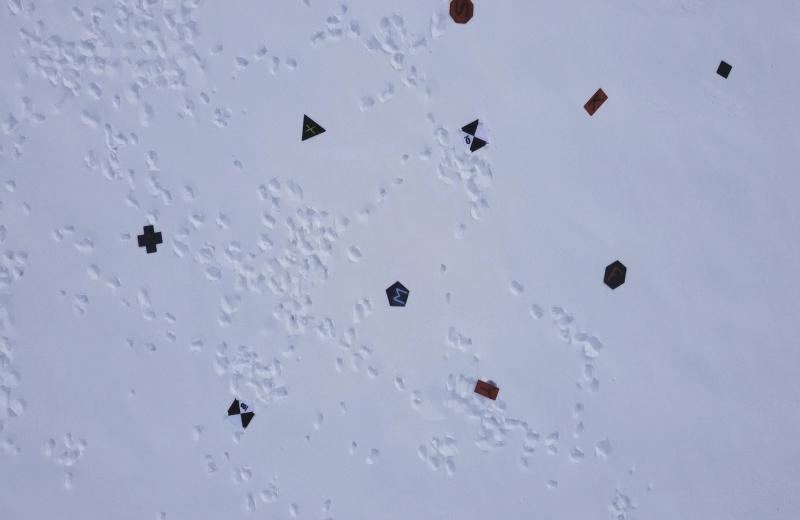Cross: (134, 220, 166, 254)
Hexagon: (600, 256, 631, 292)
Octagon: (447, 0, 474, 37)
Pentagon: (383, 277, 413, 312)
Rectangle: (579, 84, 610, 118), (470, 378, 504, 408)
Square: (712, 60, 736, 84)
Triangle: (297, 111, 329, 144)
